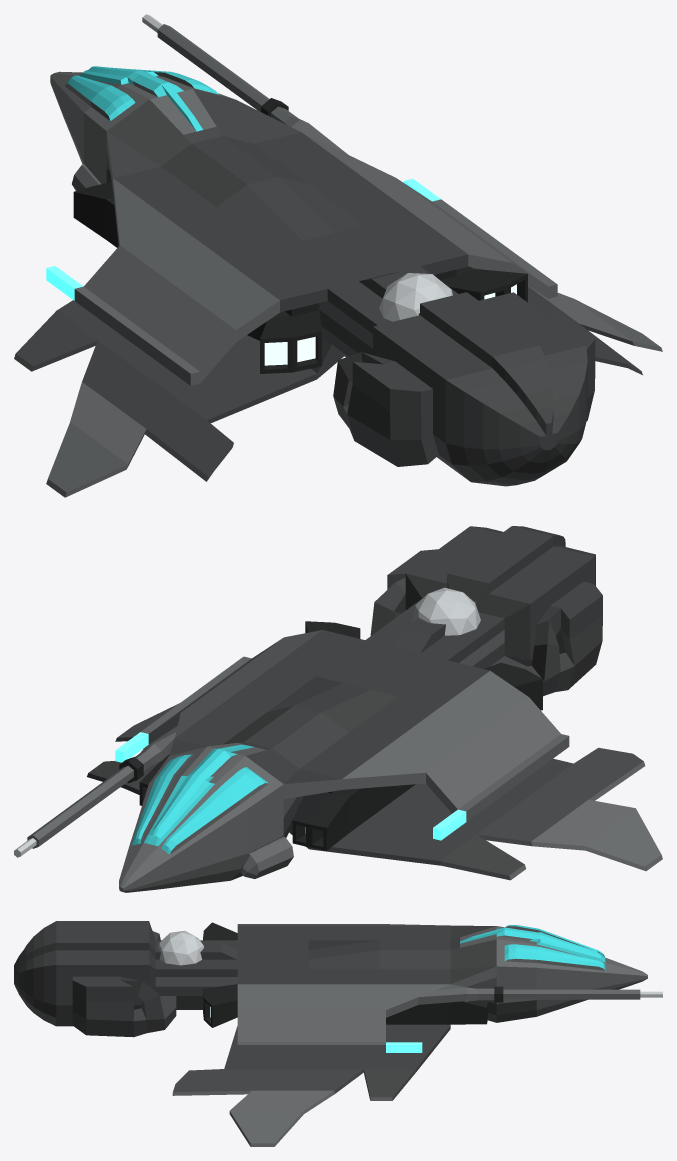
The model's file is Exploration_Destroyer_LODGroup.fbx.
3 views of the same model, one above another, from view 1: azimuth 30°, elevation 25°; view 2: azimuth 150°, elevation 25°; view 3: azimuth 270°, elevation 25° (orthographic). The views are drawn at different scales.
Visible parts, largest first — view 1: Exploration Destroyer_LOD0; view 2: Exploration Destroyer_LOD0; view 3: Exploration Destroyer_LOD0.
Part boxes in pixels (x1,y1,x2,y2): Exploration Destroyer_LOD0: (14, 14, 662, 497); Exploration Destroyer_LOD0: (14, 526, 662, 892); Exploration Destroyer_LOD0: (14, 921, 662, 1146).
Size of what is drawn, in the model's own units: 124 by 38.93 by 183.
